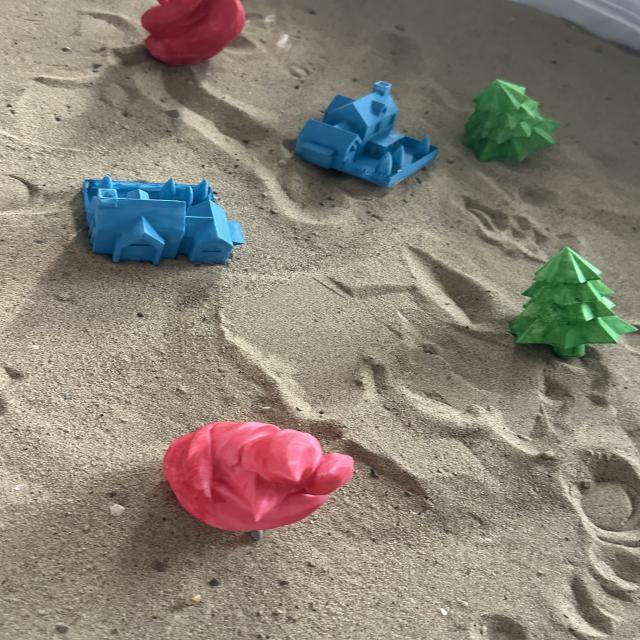fire: (161, 419, 355, 534), (144, 0, 243, 62)
house: (292, 79, 440, 189), (80, 173, 246, 266)
tree: (507, 245, 637, 359), (460, 77, 560, 164)
